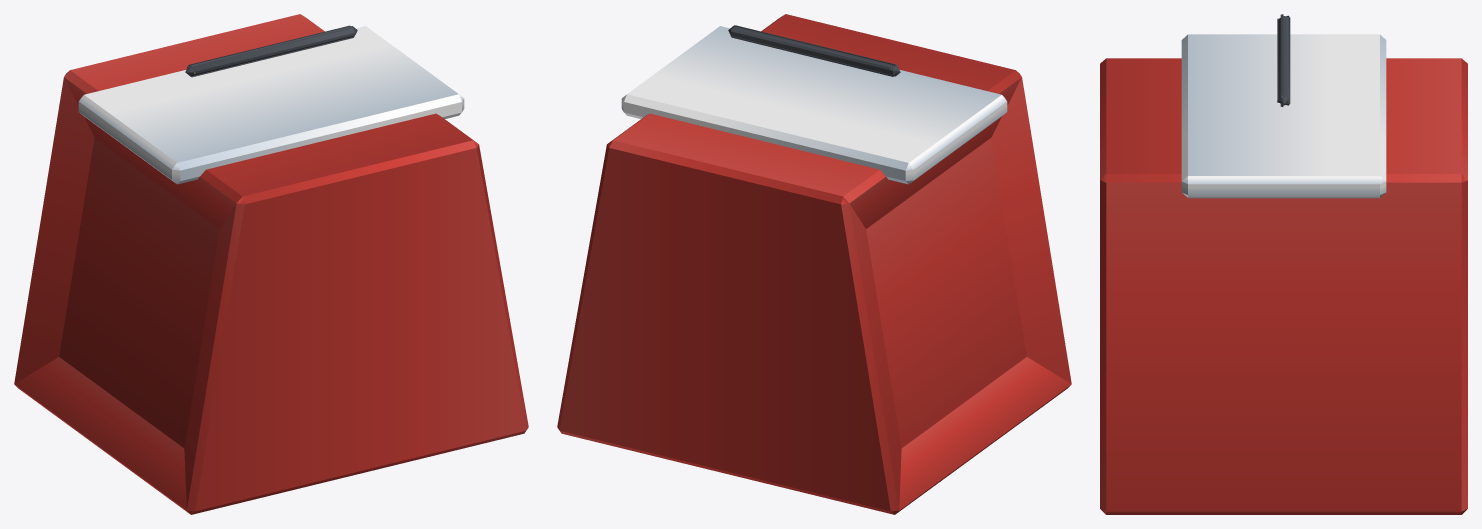
The model's file is dt_takeout_box.fbx.
3 views of the same model, side by side, from view 1: azimuth 30°, elevation 25°; view 2: azimuth 150°, elevation 25°; view 3: azimuth 270°, elevation 25° (orthographic). The views are drawn at different scales.
Parts seen in each view (by area): view 1: dt_takeout_box; view 2: dt_takeout_box; view 3: dt_takeout_box.
Part boxes in pixels (box(x1,y1,x2,y2)): dt_takeout_box: box(14, 14, 528, 514); dt_takeout_box: box(557, 14, 1071, 514); dt_takeout_box: box(1100, 14, 1467, 514).
Bounding box in the file's own units: 117 × 120 × 106.
